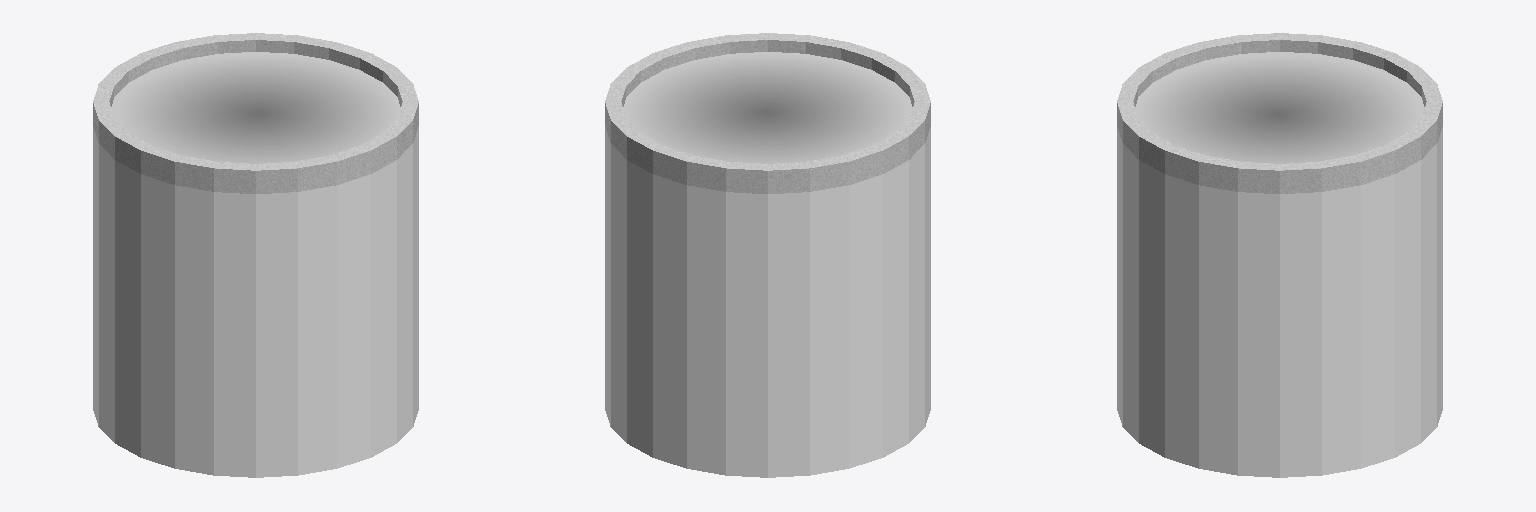
3 renders of one model, left to right at view 1: azimuth 30°, elevation 25°; view 2: azimuth 150°, elevation 25°; view 3: azimuth 270°, elevation 25°, orthographic.
Parts seen in each view (by area): view 1: YF-20DecShroud, YF-20Mount; view 2: YF-20DecShroud, YF-20Mount; view 3: YF-20DecShroud, YF-20Mount.
Boxes of the visible parts, <box> form: YF-20DecShroud: <box>93,127,418,477</box>; YF-20Mount: <box>93,33,418,193</box>; YF-20DecShroud: <box>605,127,930,477</box>; YF-20Mount: <box>605,33,930,193</box>; YF-20DecShroud: <box>1117,127,1442,477</box>; YF-20Mount: <box>1117,33,1442,193</box>.
Size of the model in its own units: 0.625 by 0.6521 by 0.625.
6 materials, 3 textured.